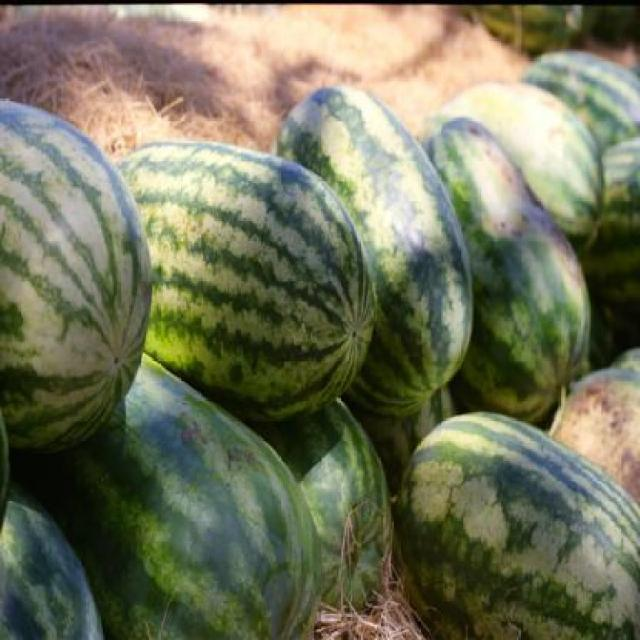Watermelon: (0, 0, 638, 638), (108, 136, 374, 424)
